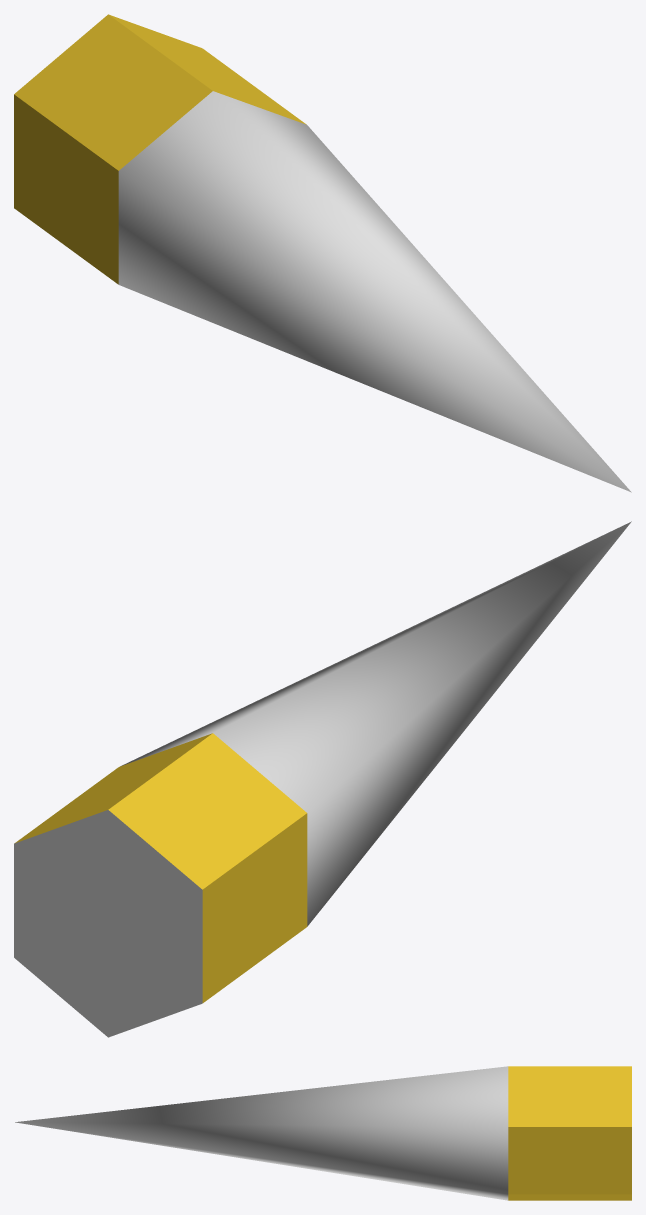
File: 0_2mlPipetTip.fbx
3 views of the same model, one above another, from view 1: azimuth 30°, elevation 25°; view 2: azimuth 150°, elevation 25°; view 3: azimuth 270°, elevation 25° (orthographic). The views are drawn at different scales.
Parts seen in each view (by area): view 1: 0_2ml; view 2: 0_2ml; view 3: 0_2ml.
Boxes of the visible parts, bbox=[...] form: 0_2ml: bbox=[14, 14, 631, 492]; 0_2ml: bbox=[14, 521, 631, 1037]; 0_2ml: bbox=[15, 1066, 631, 1200].
Size of the model in its own units: 1.04 by 1.2 by 5.
